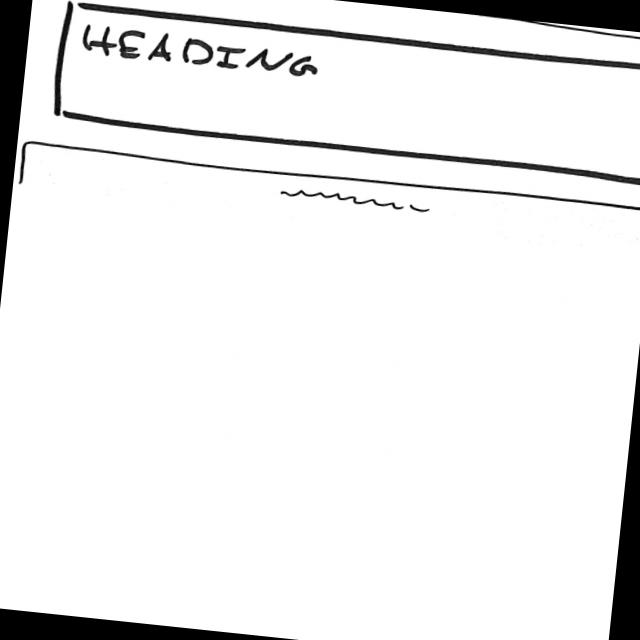container: (49, 1, 640, 187), (42, 1, 640, 44)
label: (81, 22, 321, 82)
text: (280, 187, 433, 215)
